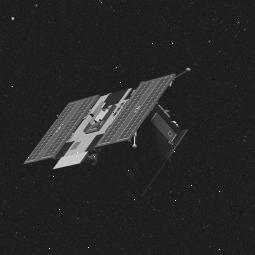proba_2: (36, 75, 179, 192)
